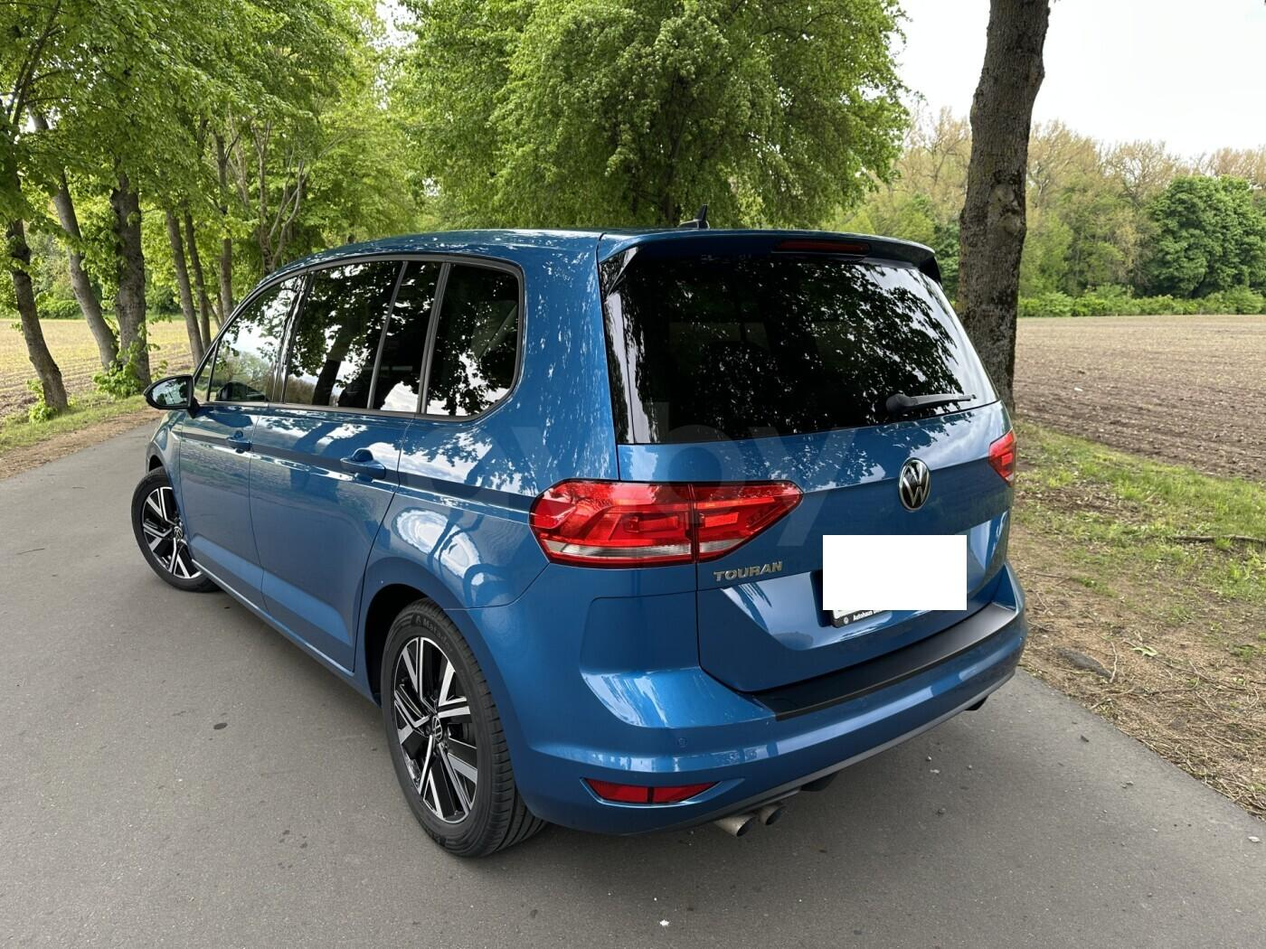Touran_2015: (127, 222, 1030, 866)
